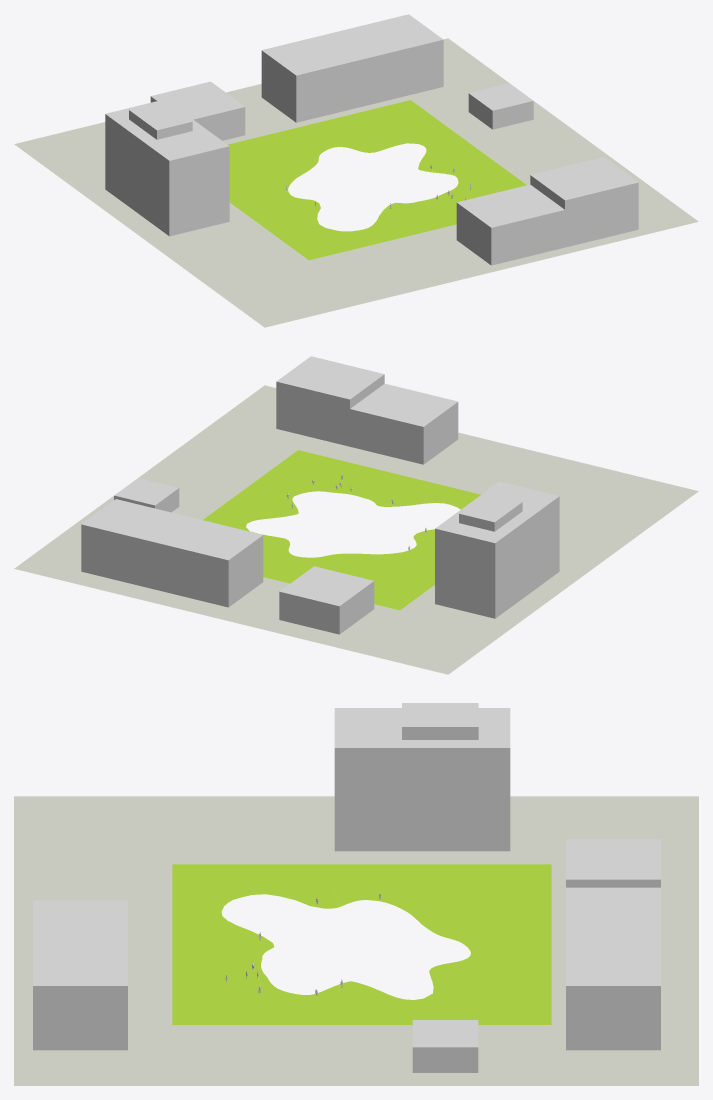
Rendered from parque_comum.fbx.
3 views of the same model, one above another, from view 1: azimuth 30°, elevation 25°; view 2: azimuth 150°, elevation 25°; view 3: azimuth 270°, elevation 25° (orthographic). The views are drawn at different scales.
Parts seen in each view (by area): view 1: base, parque, Cube.001, Cube.002, Cube.003, Cube, Cube.004; view 2: base, parque, Cube.001, Cube.002, Cube.003, Cube, Cube.004; view 3: base, parque, Cube.002, Cube.001, Cube.003, Cube, Cube.004.
Part boxes in pixels (bbox=[...]): base: bbox=[14, 38, 698, 327]; parque: bbox=[228, 100, 526, 260]; Cube.001: bbox=[261, 14, 443, 122]; Cube.002: bbox=[105, 99, 229, 236]; Cube.003: bbox=[456, 157, 638, 265]; Cube: bbox=[150, 81, 245, 140]; Cube.004: bbox=[468, 83, 533, 129]; base: bbox=[14, 385, 698, 674]; parque: bbox=[203, 450, 480, 610]; Cube.001: bbox=[81, 499, 263, 607]; Cube.002: bbox=[435, 481, 559, 618]; Cube.003: bbox=[276, 356, 458, 464]; Cube: bbox=[279, 566, 374, 634]; Cube.004: bbox=[114, 478, 179, 512]; base: bbox=[14, 796, 698, 1085]; parque: bbox=[172, 864, 551, 1024]; Cube.002: bbox=[334, 703, 510, 851]; Cube.001: bbox=[566, 887, 660, 1050]; Cube.003: bbox=[33, 900, 127, 1050]; Cube: bbox=[566, 839, 660, 887]; Cube.004: bbox=[412, 1020, 478, 1072].
Size of the model in its own units: 14438 by 2700 by 14438.
